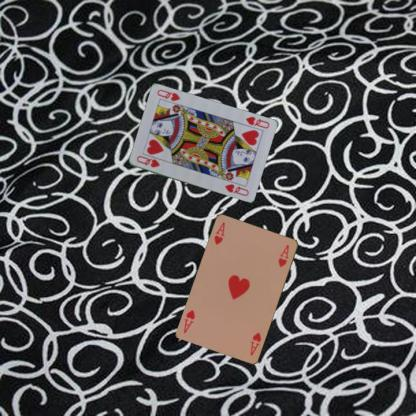Ah: (211, 219, 226, 245), (248, 329, 262, 356)
Qh: (134, 153, 161, 169), (243, 114, 270, 130)
